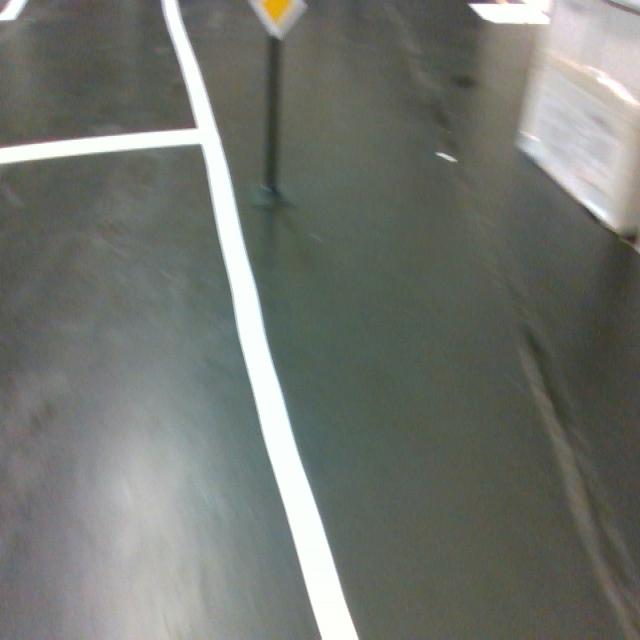priority-sign: (245, 0, 310, 43)
